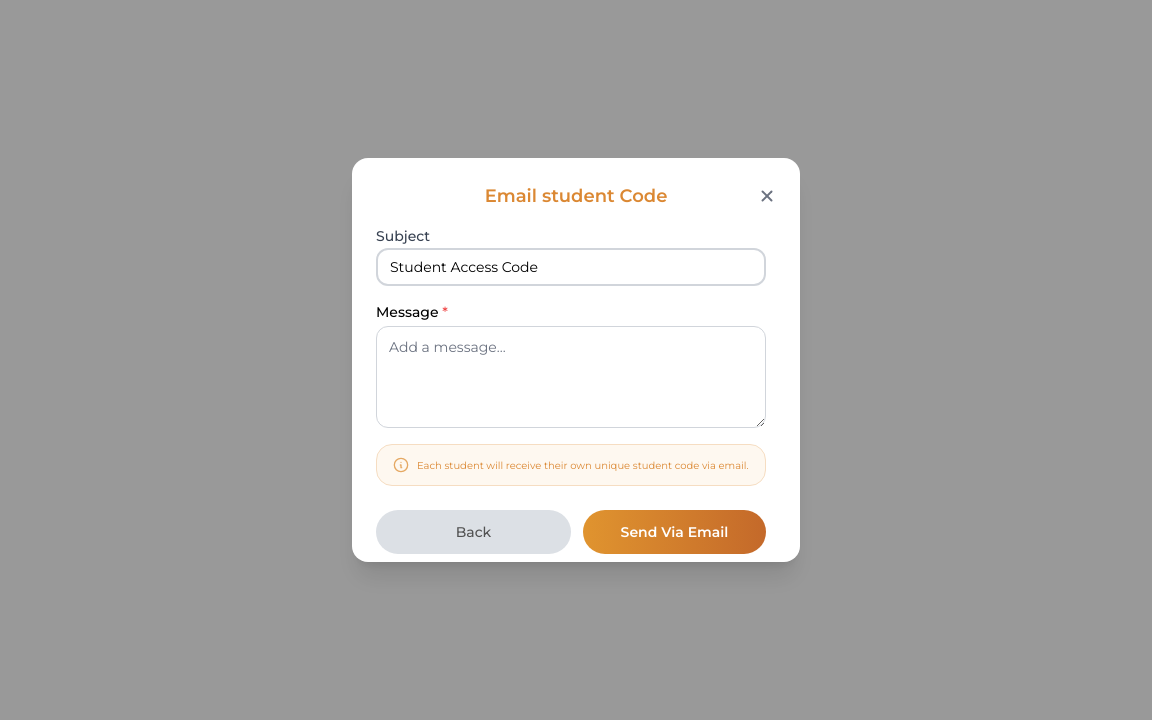
Test: BulkEmailAccessCodeModal › shows singular message when exactly 1 student has missing email
The image size is (1152, 720).
In the text box with placeholder "Add a message...": (571, 377) [376,326,766,428], type "Hello"
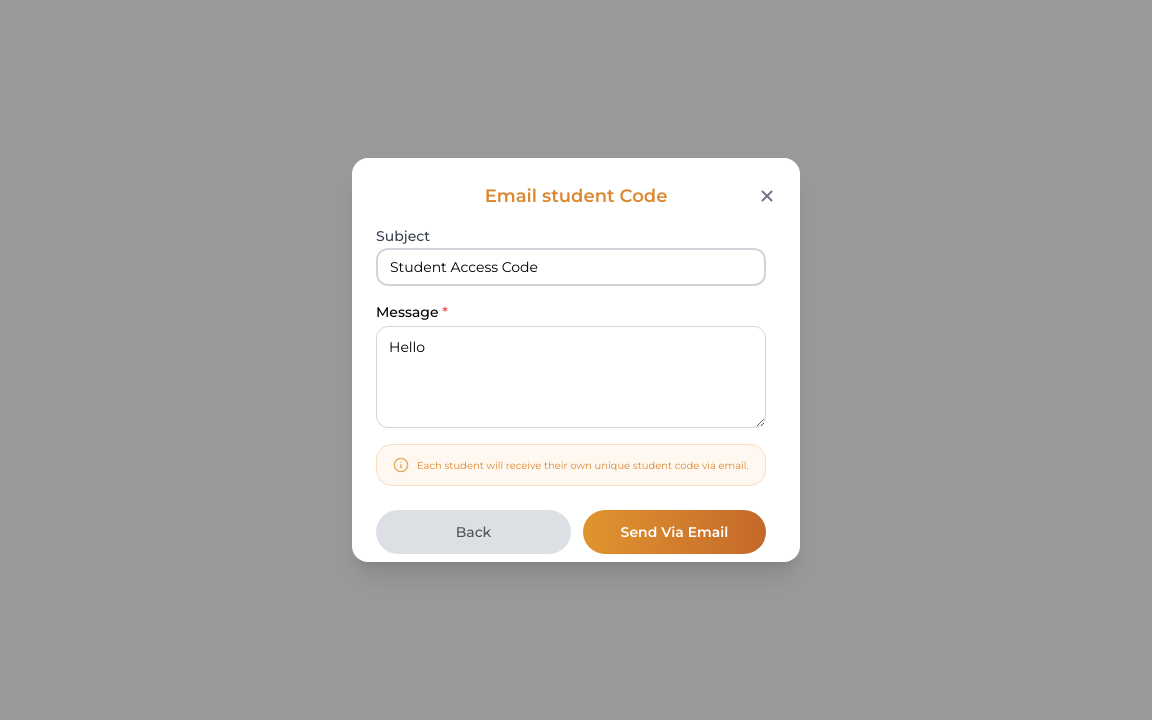
Click the button "Send Via Email": (674, 532) [583,510,766,554]
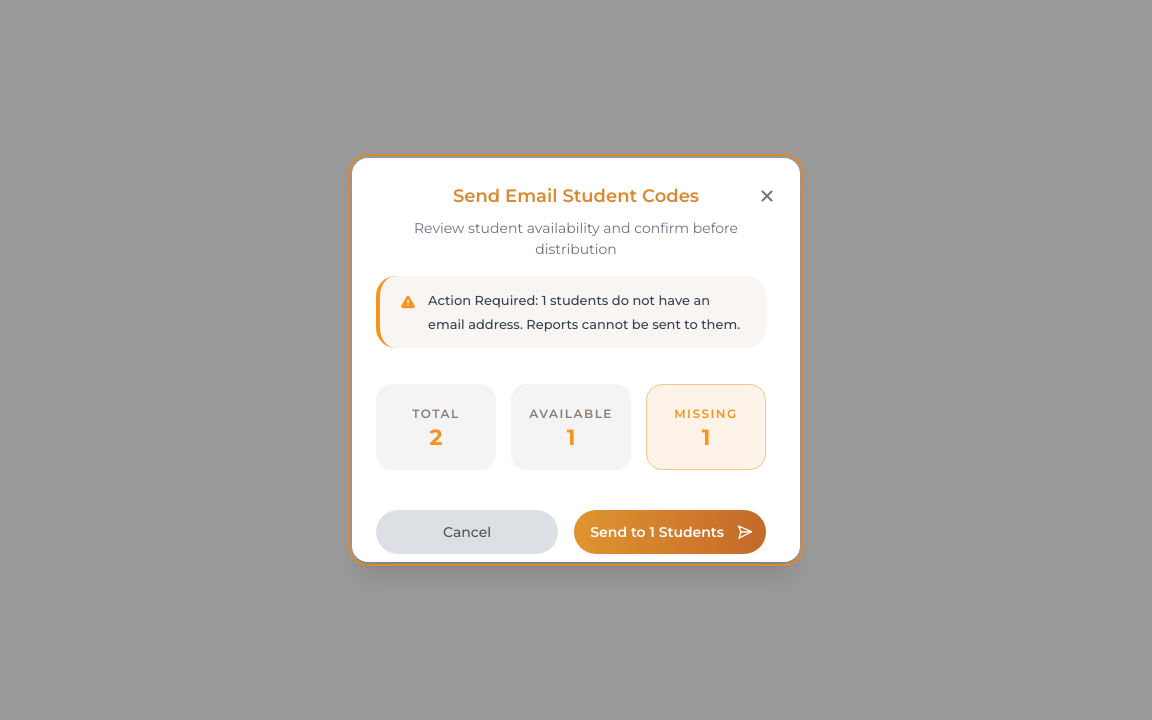
Expected: the text "1 students do not have an email address" is shown, [428,288,746,336]
